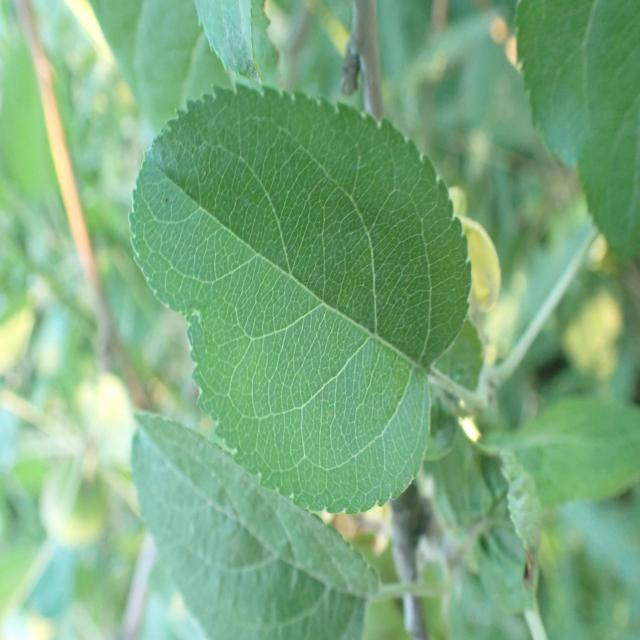healthy: (127, 79, 472, 516), (131, 408, 381, 640), (513, 0, 640, 262)
